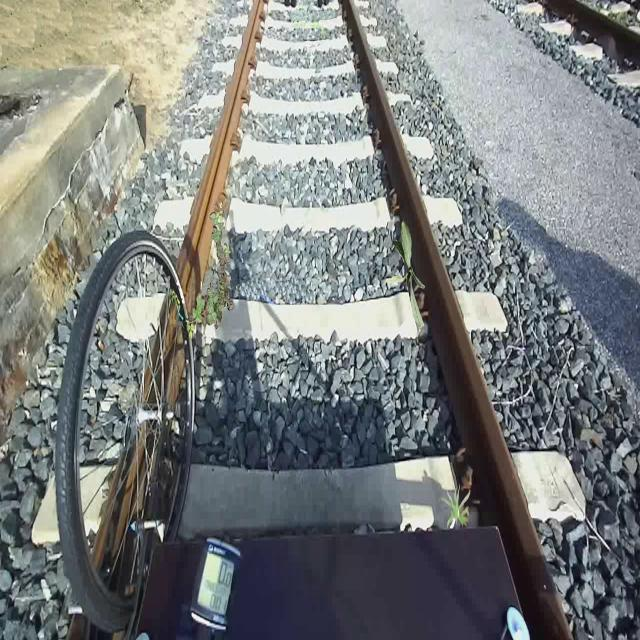Plant: (185, 201, 234, 339), (386, 220, 426, 330), (438, 483, 470, 529)
